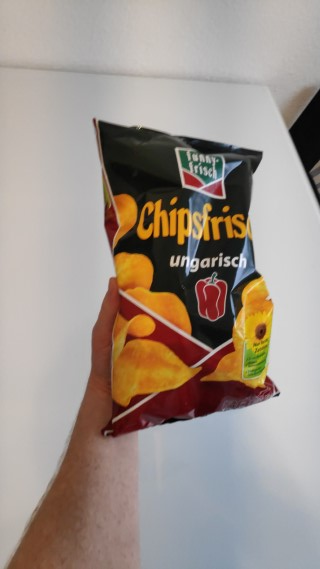chipsfrisch: (90, 116, 284, 440)
